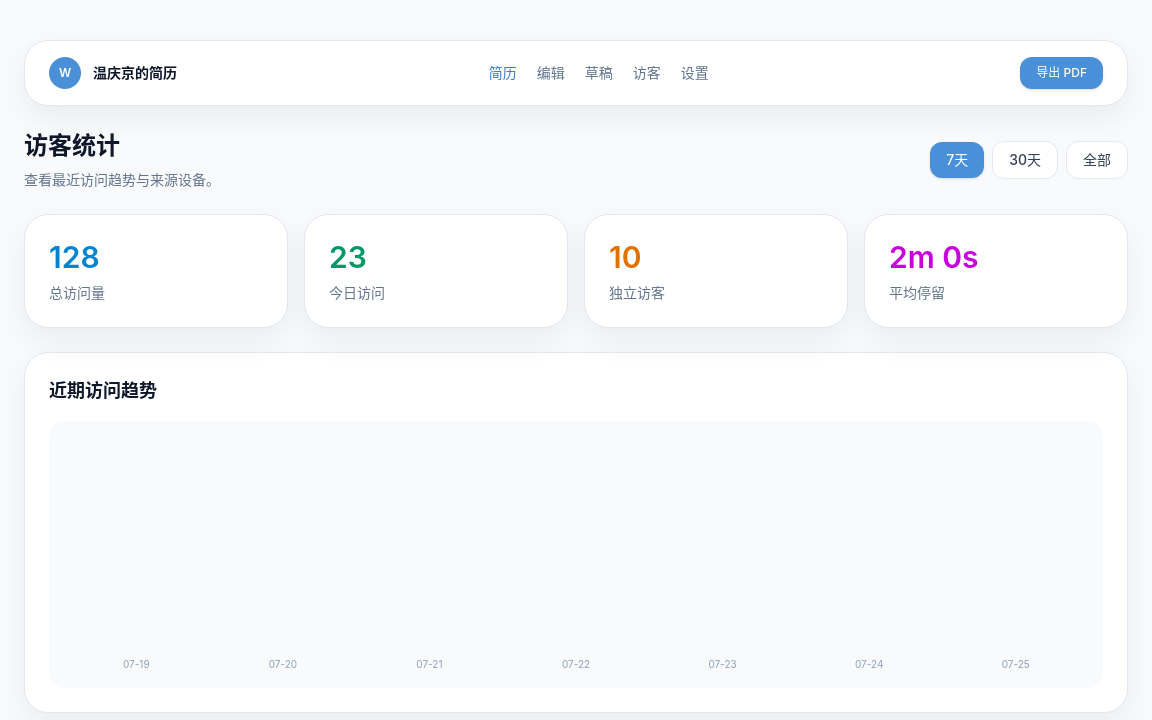
Test: visitors page › switches between 7-day and 30-day visitor data views
The image size is (1152, 720).
Expected: the text "128" is shown, [49, 239, 100, 275]
Click the button "30天".
click(1025, 160)  # box [992, 141, 1058, 179]
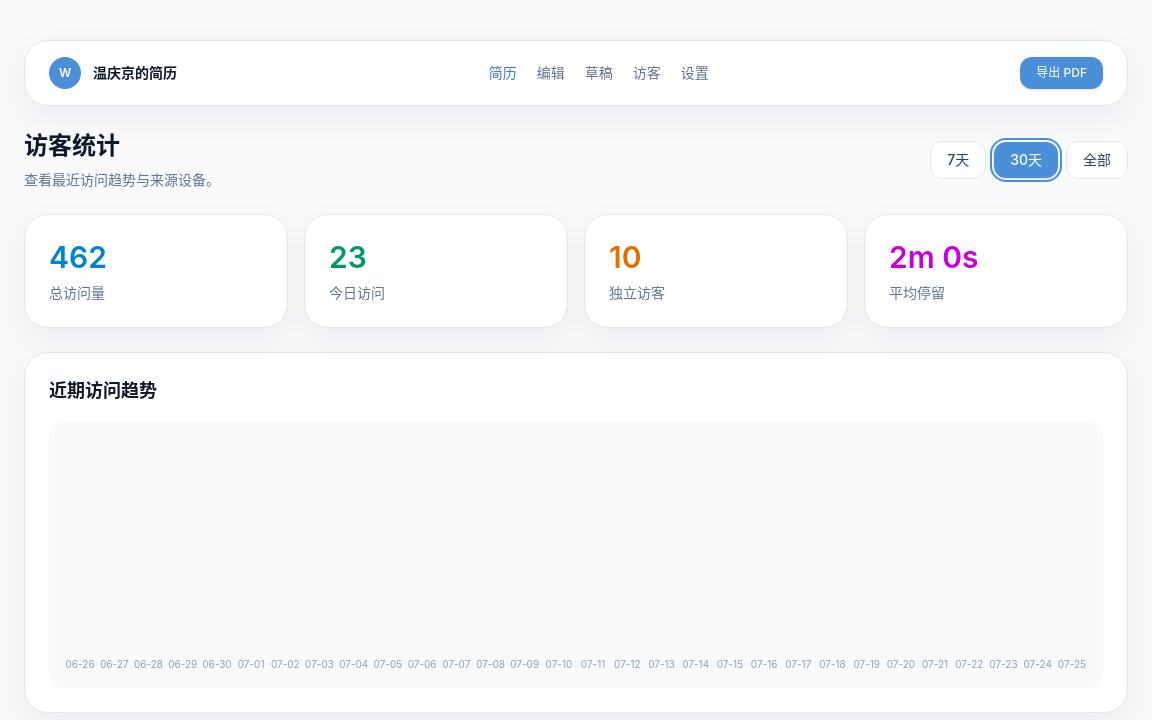
Result: the text "462" is shown at [49, 239, 107, 275]
